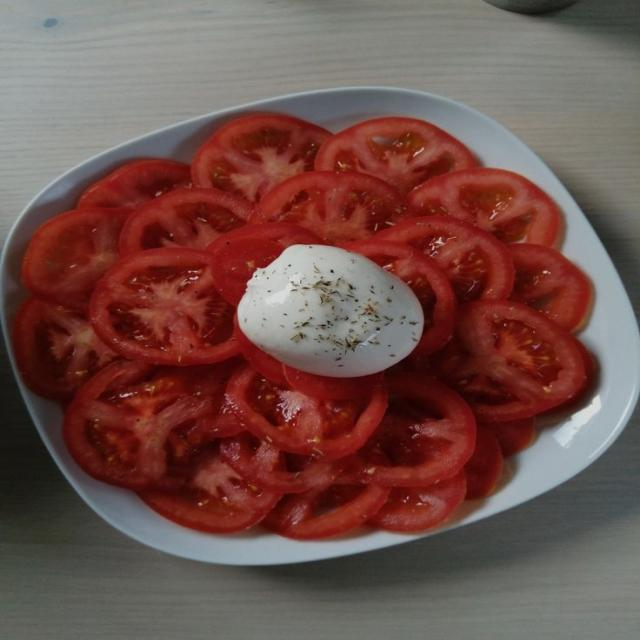sliced_tomato: (64, 361, 211, 489), (90, 248, 238, 365), (446, 301, 586, 421), (344, 373, 475, 487), (227, 366, 386, 459), (344, 239, 455, 354), (315, 117, 476, 193), (192, 115, 331, 202), (375, 216, 514, 302), (407, 168, 560, 245), (250, 171, 411, 243), (139, 451, 279, 533), (22, 208, 130, 310), (14, 298, 119, 399), (207, 223, 324, 305), (120, 188, 251, 255), (220, 431, 346, 493), (161, 359, 243, 454), (508, 243, 591, 330), (263, 485, 389, 539), (369, 471, 466, 533), (78, 159, 191, 208), (234, 319, 287, 387), (283, 365, 383, 399), (465, 427, 503, 499), (480, 417, 535, 456)
